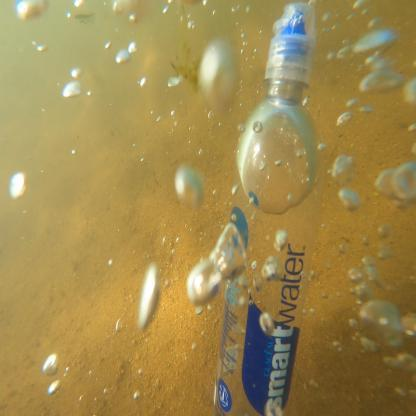Rác: (211, 0, 333, 414)
